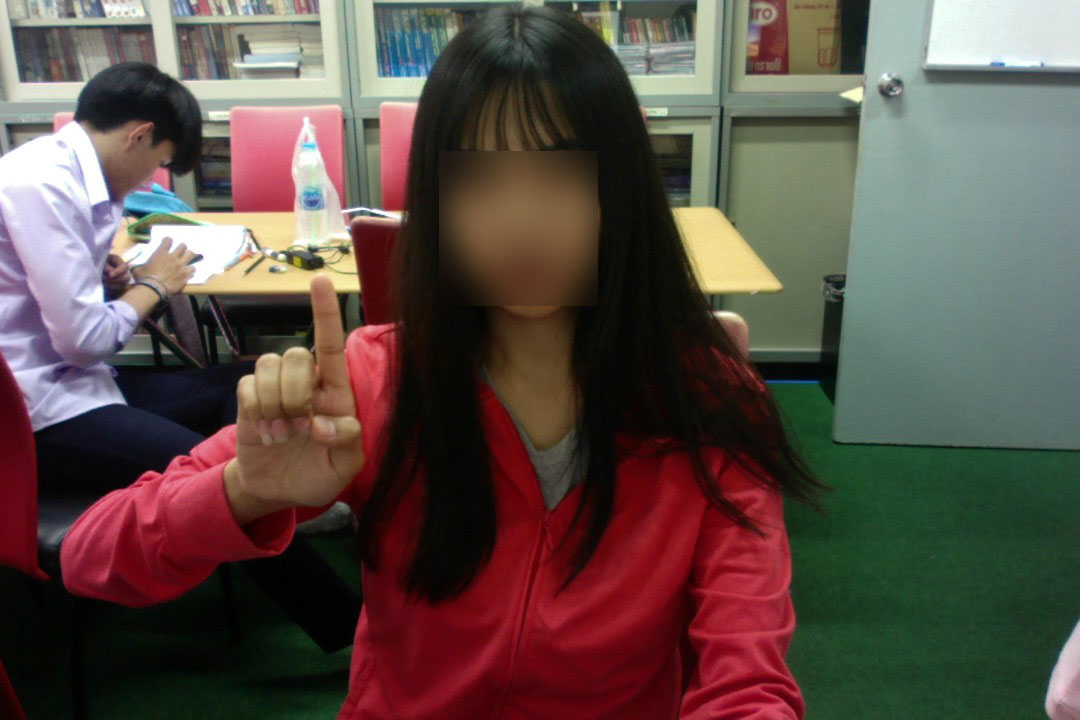dor: (214, 272, 374, 515)
